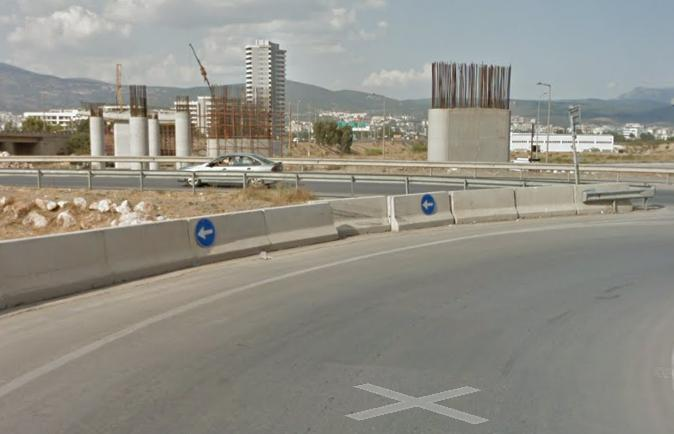turnleft: (195, 218, 218, 246), (421, 194, 438, 215)
